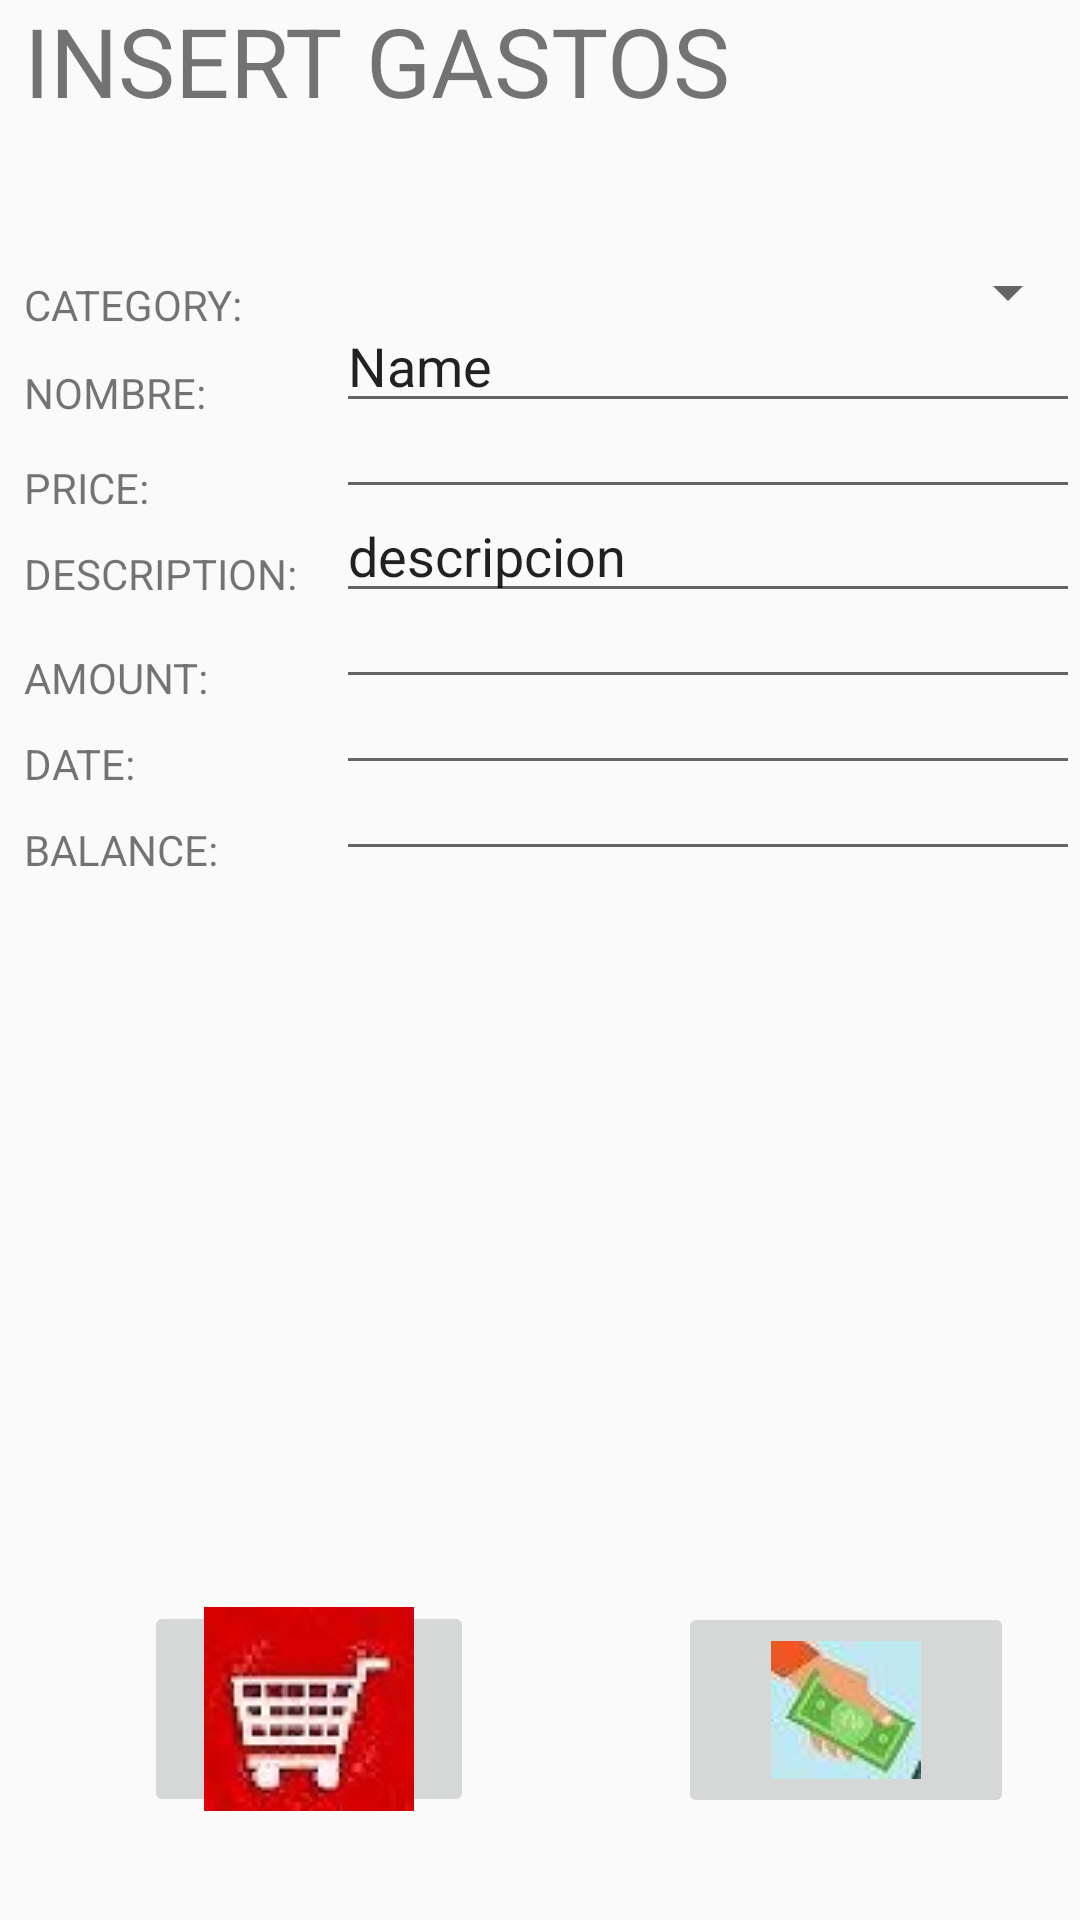

Where icons sit on this 1080*1920 app screen, as (x1, y1, x2, y2):
cesta: (156, 1607, 462, 1811)
pagar: (690, 1620, 1002, 1800)
